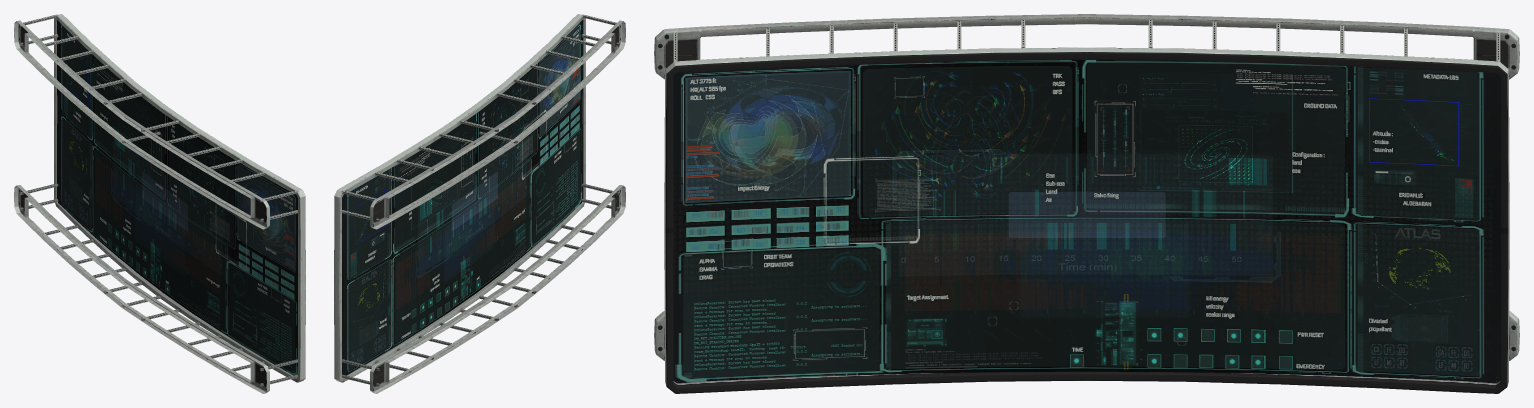
Rendered from monitor.glb.
3 views of the same model, side by side, from view 1: azimuth 30°, elevation 25°; view 2: azimuth 150°, elevation 25°; view 3: azimuth 270°, elevation 25° (orthographic). The views are drawn at different scales.
Visible parts, largest first — view 1: Object_4; view 2: Object_4; view 3: Object_4.
Boxes of the visible parts, x1,y1,x2,y2 form: Object_4: (14, 14, 305, 393); Object_4: (334, 14, 625, 393); Object_4: (654, 14, 1519, 393).
Size of the model in its own units: 0.2088 by 0.632 by 1.5.
2 materials, 2 textured.
